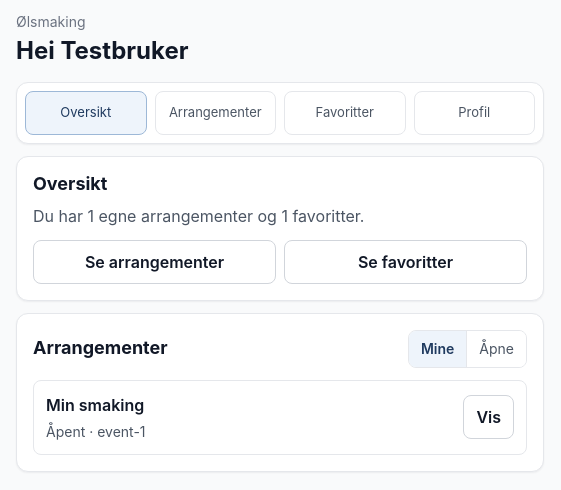
Scenario: App core flows › shows favorites from the global favorites endpoint
The image size is (561, 490).
Click the button "Favoritter": (345, 113) [284, 91, 406, 135]
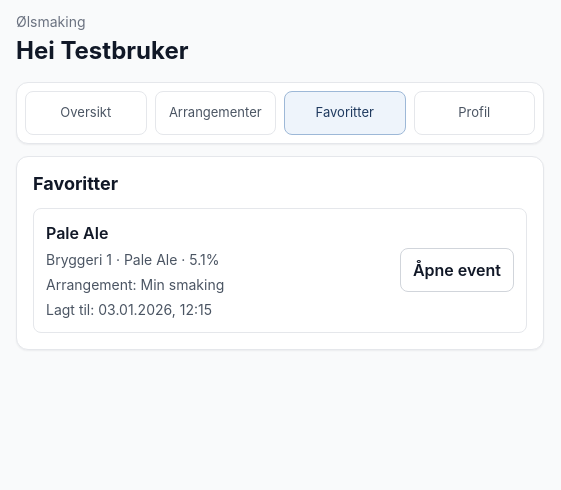
Result: the text "Pale Ale" is shown at [46, 222, 108, 242]
Result: the text "Arrangement: Min smaking" is shown at [46, 276, 224, 292]
Result: the button "Åpne event" is shown at [400, 248, 514, 292]
